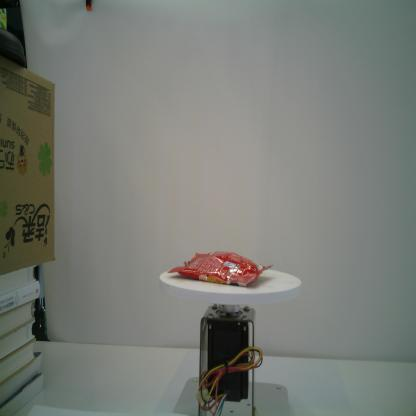Instant Drink: (164, 247, 274, 288)
